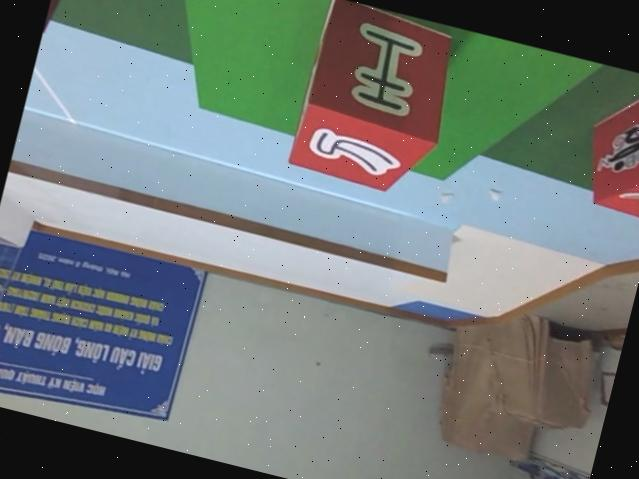R1: (571, 65, 639, 230)
R2 Fake: (282, 0, 466, 206)
